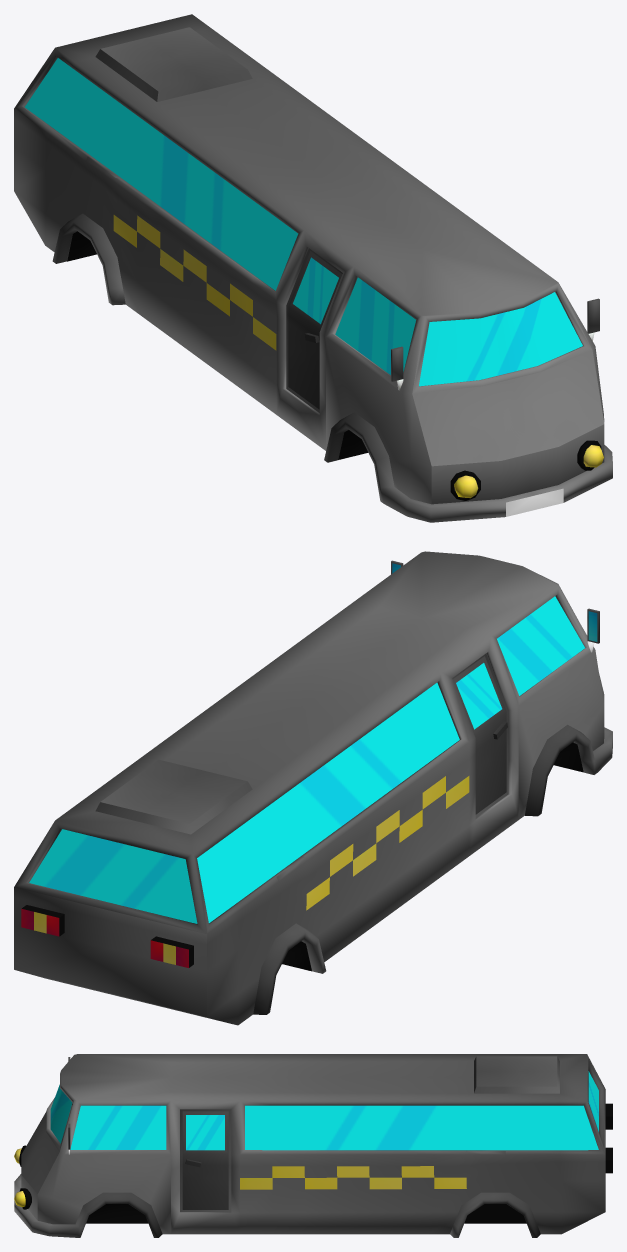
Rendered from Bus_3.fbx.
The picture shows the model from 3 angles, top to bottom: view 1: azimuth 30°, elevation 25°; view 2: azimuth 150°, elevation 25°; view 3: azimuth 270°, elevation 25°; orthographic projection. The views are drawn at different scales.
Visible parts, largest first — view 1: Bus_3; view 2: Bus_3; view 3: Bus_3.
Boxes of the visible parts, x1,y1,x2,y2 form: Bus_3: [14, 14, 612, 522]; Bus_3: [14, 551, 612, 1025]; Bus_3: [14, 1054, 612, 1237].
Bounding box in the file's own units: 283 × 236 × 987.
2 materials, 2 textured.
